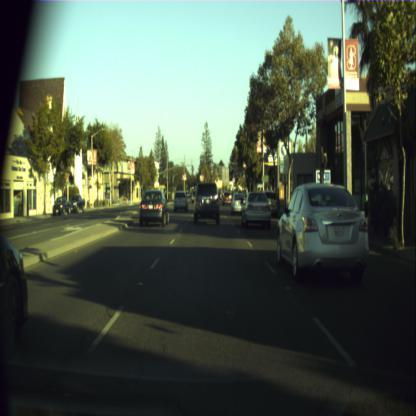Green: (240, 167, 242, 174)
